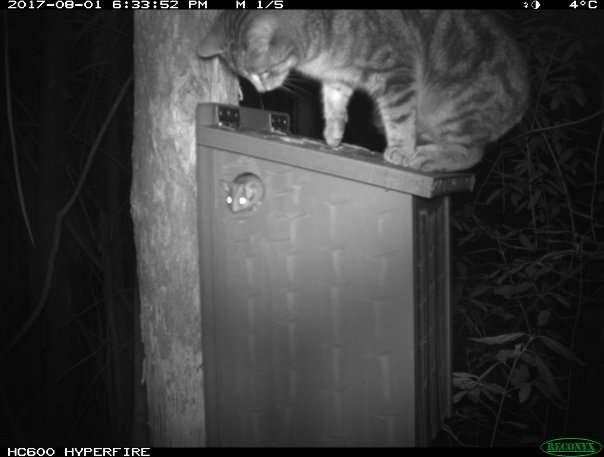house cat: (218, 15, 501, 177)
